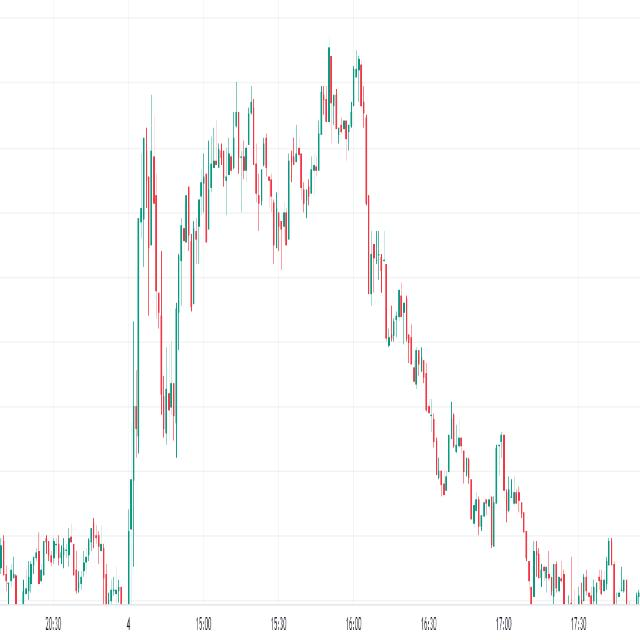Ascending-Triangle: (125, 45, 413, 537)
Rounding-Top: (190, 96, 288, 252)
